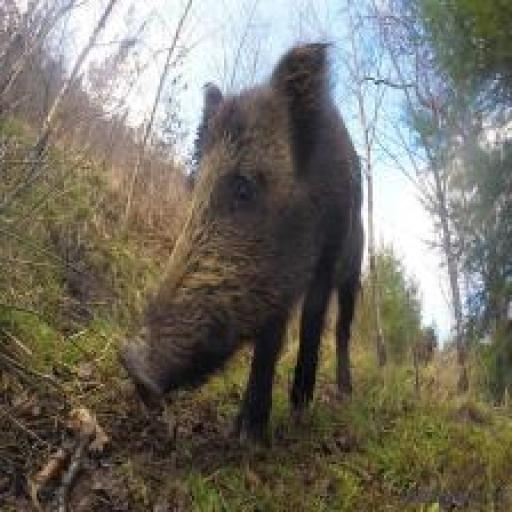Pig: (116, 44, 364, 442)
